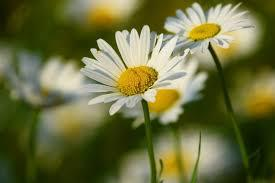chamomile: (96, 39, 165, 97), (142, 74, 205, 122), (172, 5, 233, 48)
